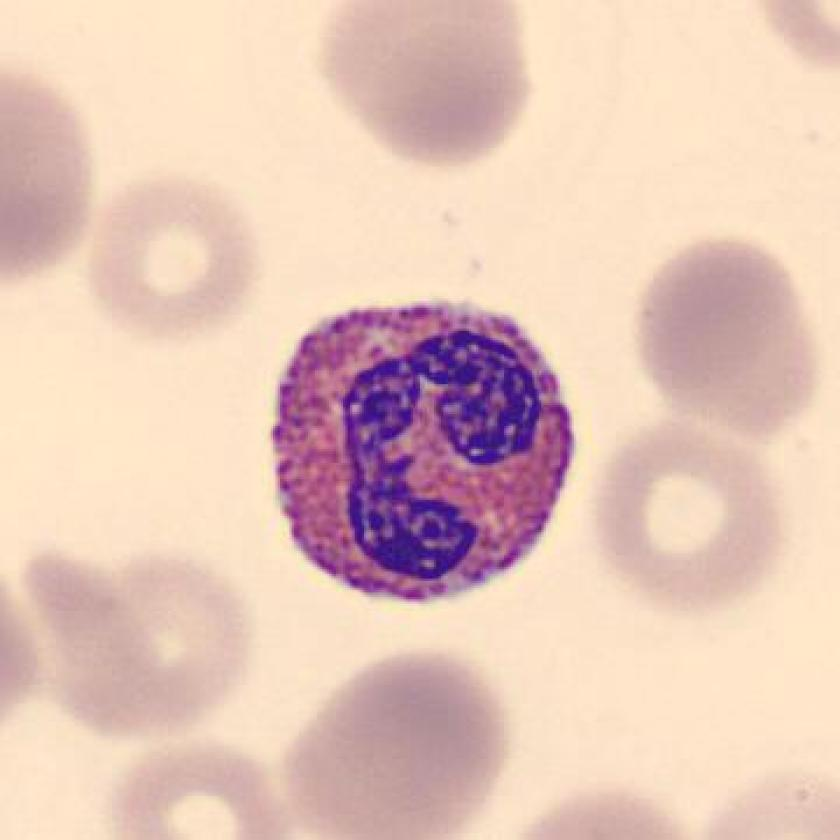eosinophil: (262, 279, 589, 614)
